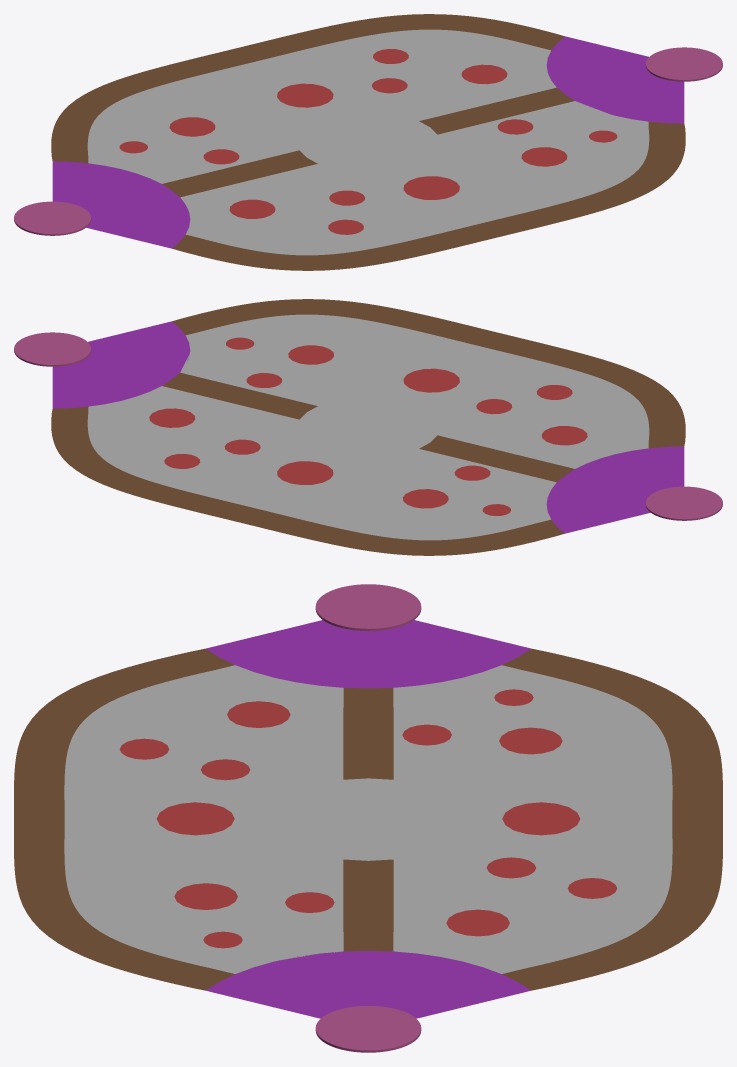
Rendered from WhiteBox.fbx.
3 renders of one model, top to bottom at view 1: azimuth 30°, elevation 25°; view 2: azimuth 150°, elevation 25°; view 3: azimuth 270°, elevation 25°, orthographic. The views are drawn at different scales.
Visible parts, largest first — view 1: polySurface11, polySurface9, pCylinder1 (×2), pCylinder5 (×2), pCylinder2 (×2), pCylinder6 (×2), pCylinder3 (×2), pCylinder4 (×2); view 2: polySurface11, polySurface9, pCylinder1 (×2), pCylinder5 (×2), pCylinder2 (×2), pCylinder6 (×2), pCylinder3 (×2), pCylinder4 (×2); view 3: polySurface11, polySurface9, pCylinder1 (×2), pCylinder5 (×2), pCylinder2 (×2), pCylinder4 (×2), pCylinder3 (×2), pCylinder6 (×2).
Part boxes in pixels (box(x1,y1,x2,y2)): polySurface11: box(87, 29, 649, 255); polySurface9: box(14, 14, 722, 270); pCylinder1 (×2): box(277, 83, 459, 199); pCylinder5 (×2): box(169, 117, 567, 166); pCylinder2 (×2): box(229, 64, 507, 218); pCylinder6 (×2): box(203, 119, 533, 164); pCylinder3 (×2): box(329, 78, 407, 205); pCylinder4 (×2): box(328, 49, 408, 234); polySurface11: box(87, 314, 649, 540); polySurface9: box(14, 299, 722, 555); pCylinder1 (×2): box(277, 368, 459, 484); pCylinder5 (×2): box(288, 345, 448, 508); pCylinder2 (×2): box(149, 408, 587, 445); pCylinder6 (×2): box(246, 373, 490, 480); pCylinder3 (×2): box(224, 399, 512, 454); pCylinder4 (×2): box(164, 385, 572, 468); polySurface11: box(64, 665, 672, 973); polySurface9: box(14, 584, 722, 1052); pCylinder1 (×2): box(156, 802, 580, 835); pCylinder5 (×2): box(174, 727, 562, 909); pCylinder2 (×2): box(227, 701, 509, 936); pCylinder4 (×2): box(119, 738, 617, 898); pCylinder3 (×2): box(201, 759, 535, 878); pCylinder6 (×2): box(285, 724, 451, 912).
Bounding box in the file's own units: 208 × 0.4751 × 134.
